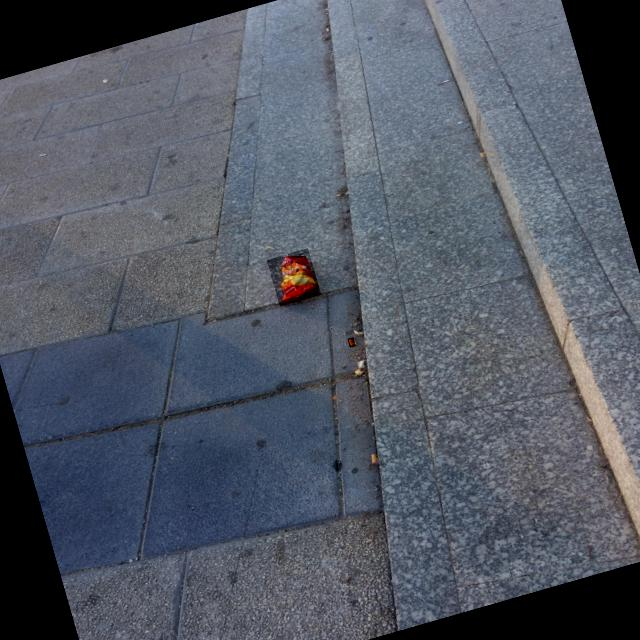Cigarette: (348, 337, 355, 346), (372, 454, 378, 464), (359, 360, 363, 368), (480, 152, 484, 157), (323, 37, 328, 40), (441, 80, 448, 82), (103, 79, 107, 82), (326, 28, 328, 31)
Crisp packet: (279, 254, 318, 304)
